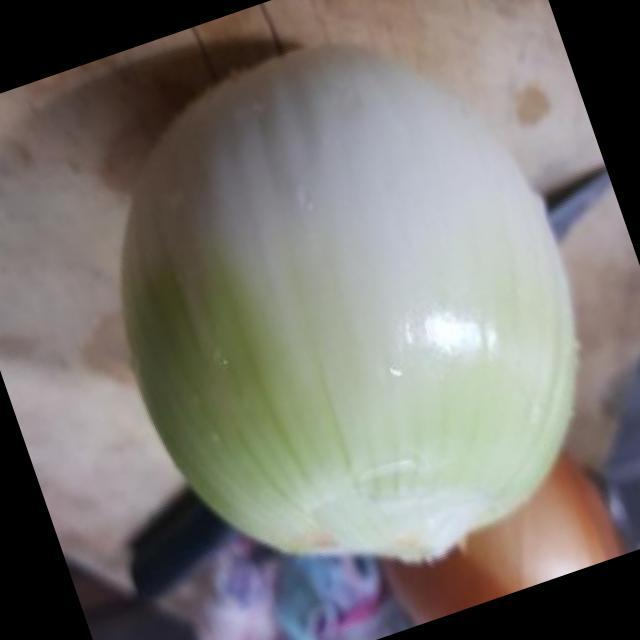Onion: (119, 47, 572, 555)
